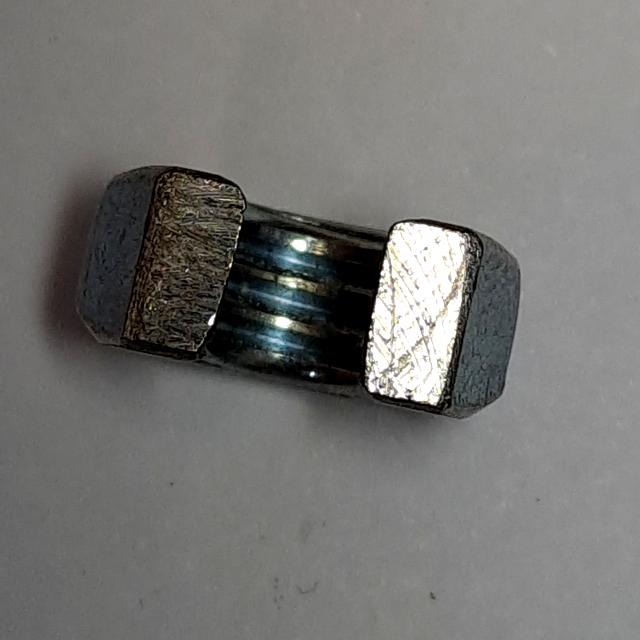Side-Fracture: (64, 147, 539, 442)
